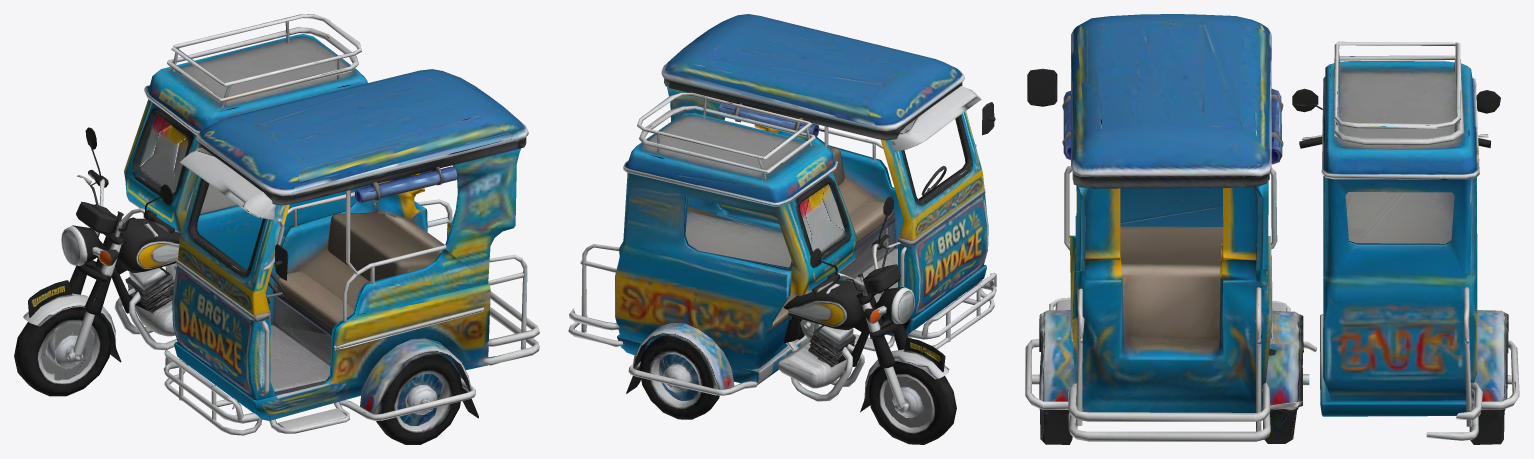
File: tricycle.glb
3 views of the same model, side by side, from view 1: azimuth 30°, elevation 25°; view 2: azimuth 150°, elevation 25°; view 3: azimuth 270°, elevation 25° (orthographic). The views are drawn at different scales.
Parts seen in each view (by area): view 1: geometry_0; view 2: geometry_0; view 3: geometry_0.
Part boxes in pixels (bbox=[...]): geometry_0: bbox=[14, 14, 539, 444]; geometry_0: bbox=[568, 14, 996, 444]; geometry_0: bbox=[1025, 14, 1519, 444].
Bounding box in the file's own units: 0.9556 × 0.7051 × 0.8881.
Materials: 1 (1 with a texture image).
